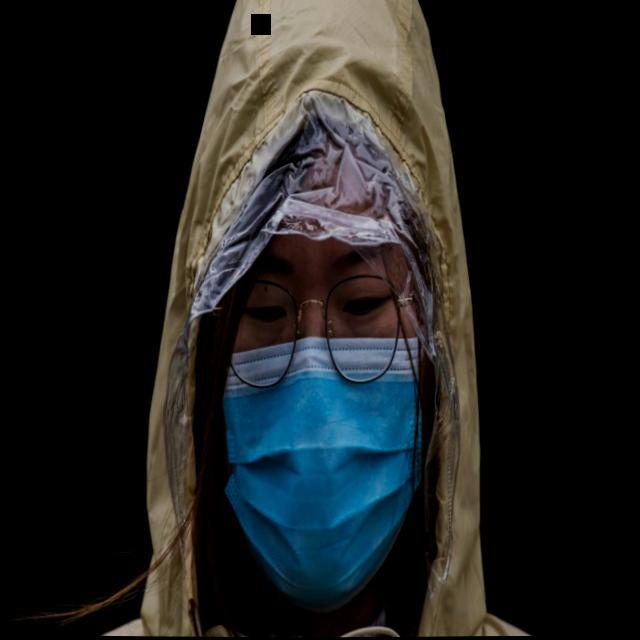Mask: (141, 0, 486, 608)
